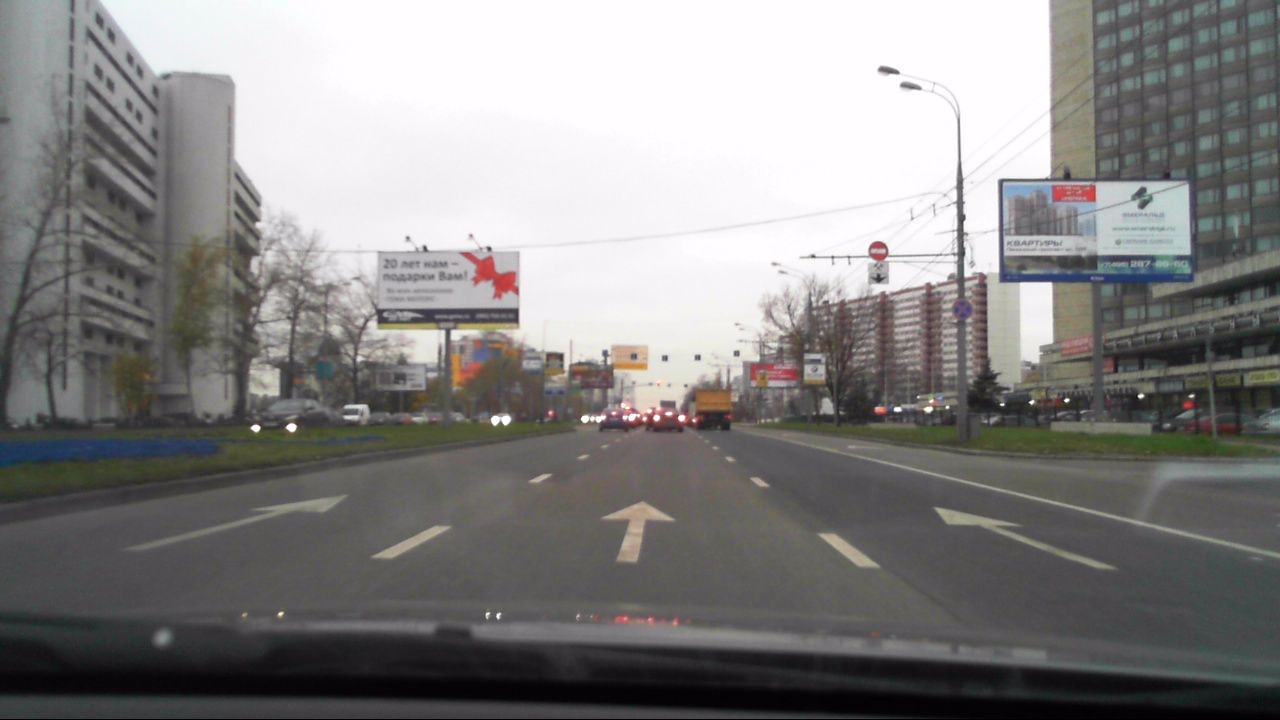No Parking: (952, 299, 973, 319)
